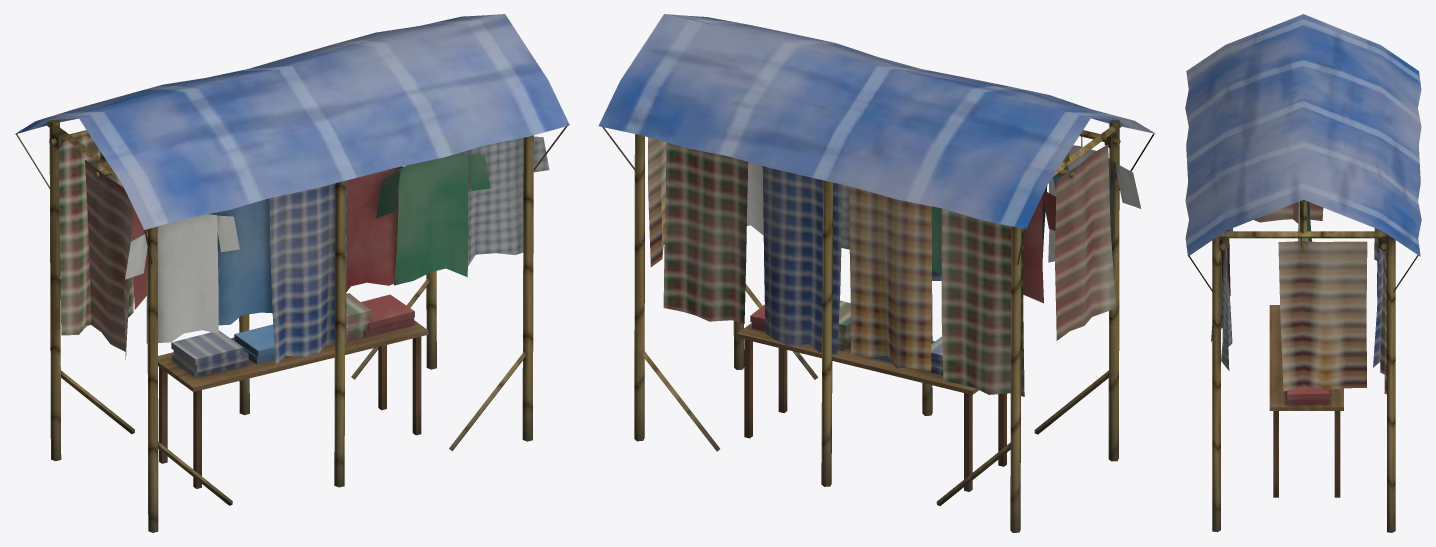
Rendered from clothes_rack.glb.
3 renders of one model, left to right at view 1: azimuth 30°, elevation 25°; view 2: azimuth 150°, elevation 25°; view 3: azimuth 270°, elevation 25°, orthographic. The views are drawn at different scales.
Parts seen in each view (by area): view 1: body; view 2: body; view 3: body.
Boxes of the visible parts, bbox=[...] form: body: bbox=[15, 14, 569, 532]; body: bbox=[598, 14, 1155, 532]; body: bbox=[1185, 14, 1421, 532].
Bounding box in the file's own units: 2.75 × 2.34 × 1.46.
Materials: 1 (1 with a texture image).
